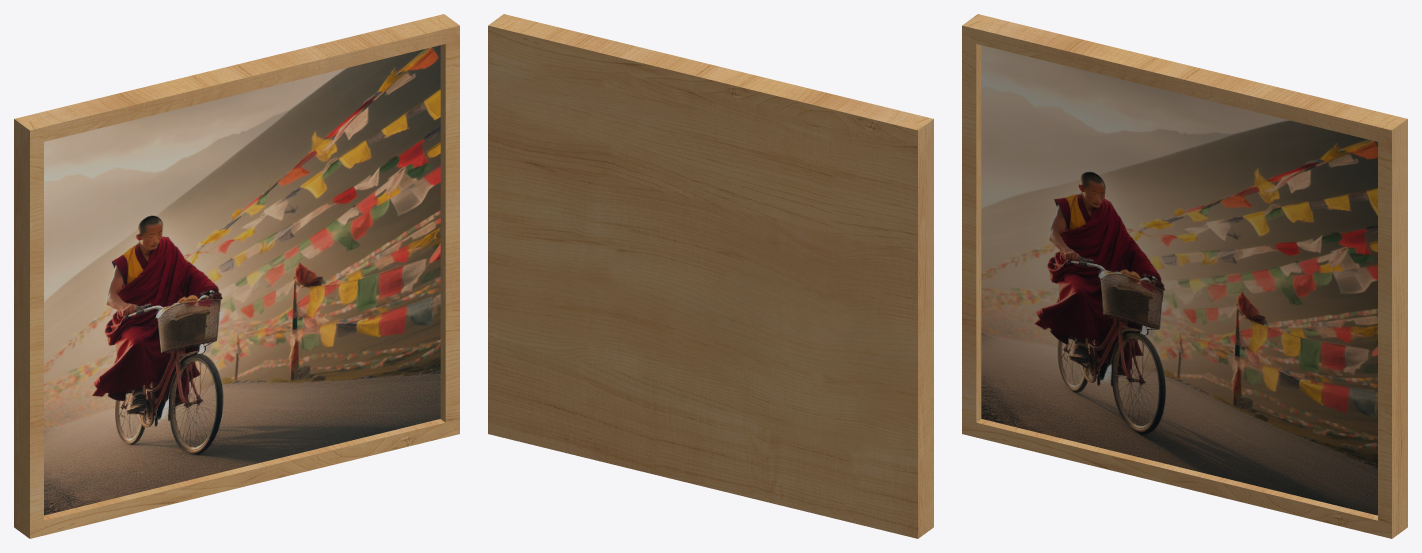
Rendered from Picture 13.fbx.
The picture shows the model from 3 angles, left to right: view 1: azimuth 30°, elevation 25°; view 2: azimuth 150°, elevation 25°; view 3: azimuth 330°, elevation 25°; orthographic projection.
Visible parts, largest first — view 1: picture 13; view 2: picture 13; view 3: picture 13.
Boxes of the visible parts, x1=… form: picture 13: x1=14, y1=14, x2=459, y2=538; picture 13: x1=488, y1=14, x2=933, y2=538; picture 13: x1=962, y1=14, x2=1407, y2=538.
Bounding box in the file's own units: 113 × 103 × 7.19.
Materials: 2 (2 with a texture image).
